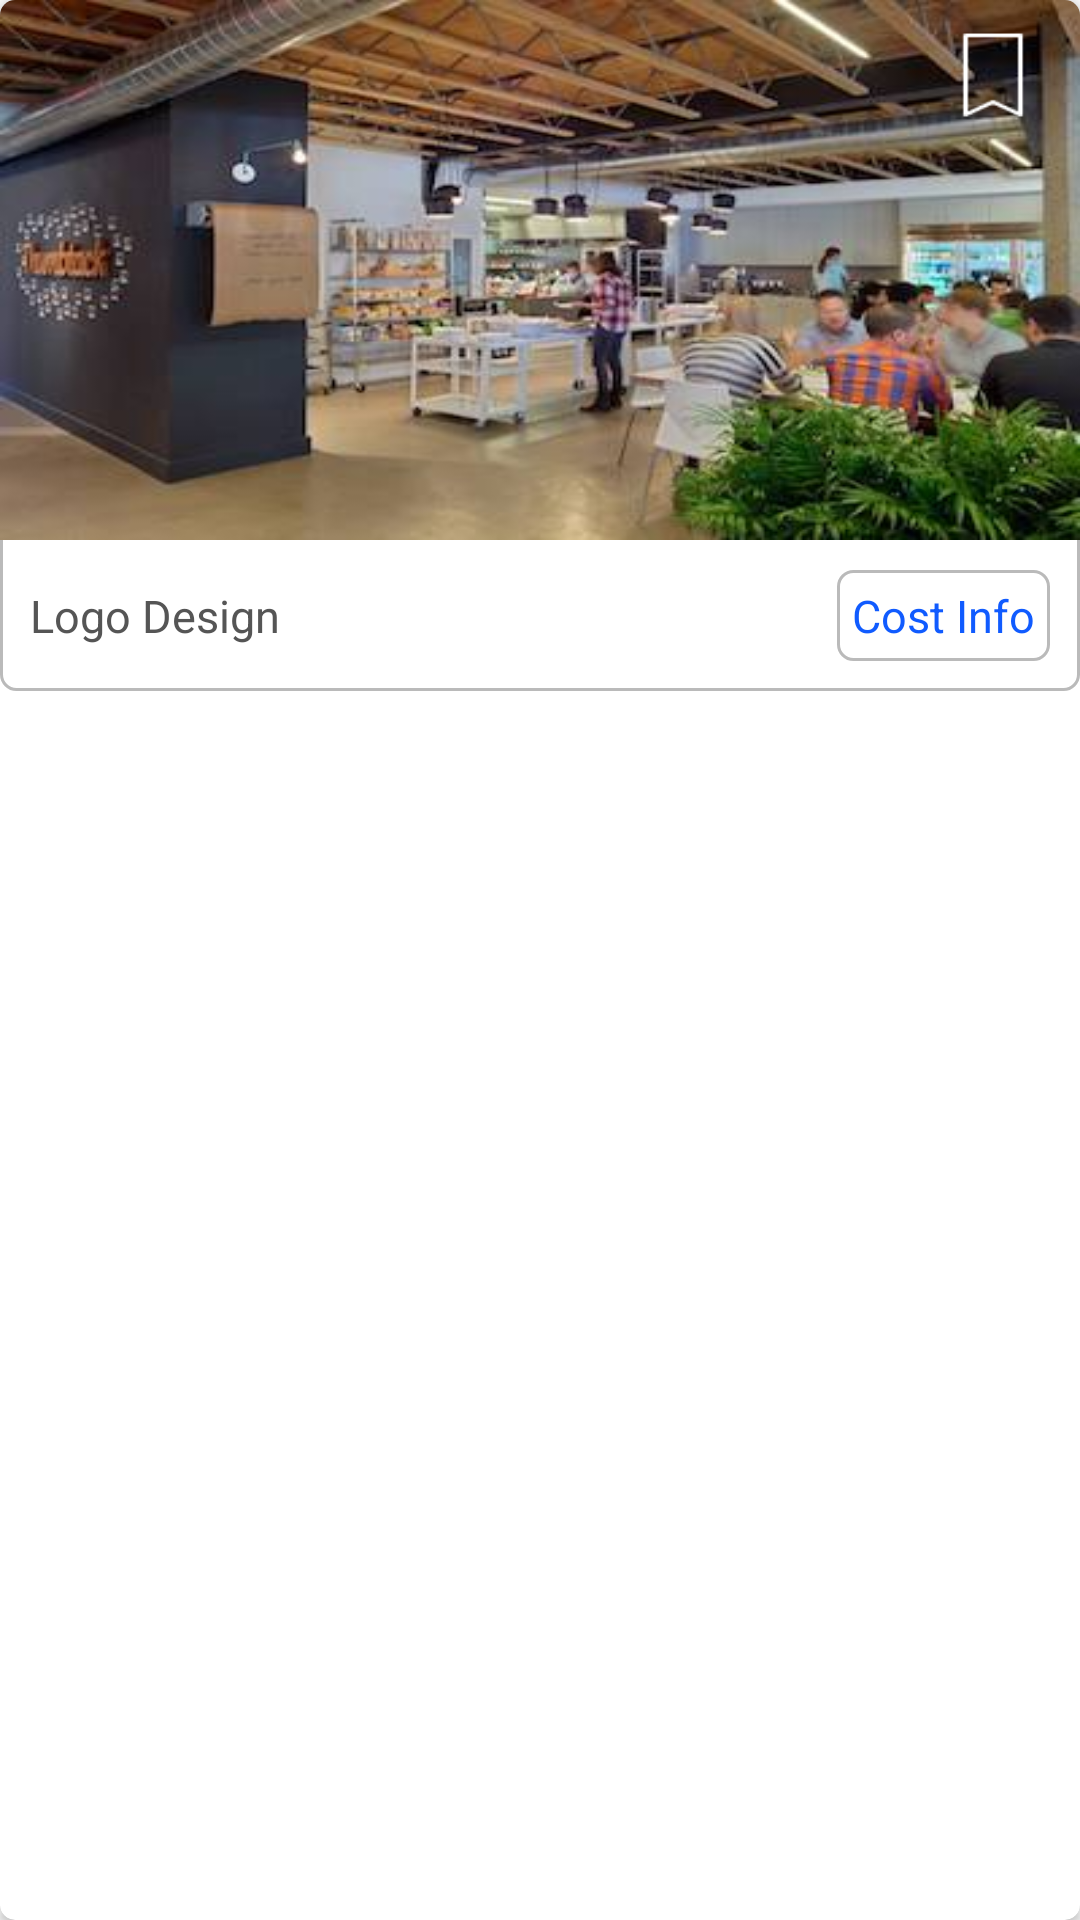

Icon click points for this 1080px×1920px phone screenshot, format (x=x, y=y):
unfav: (x=993, y=75)
